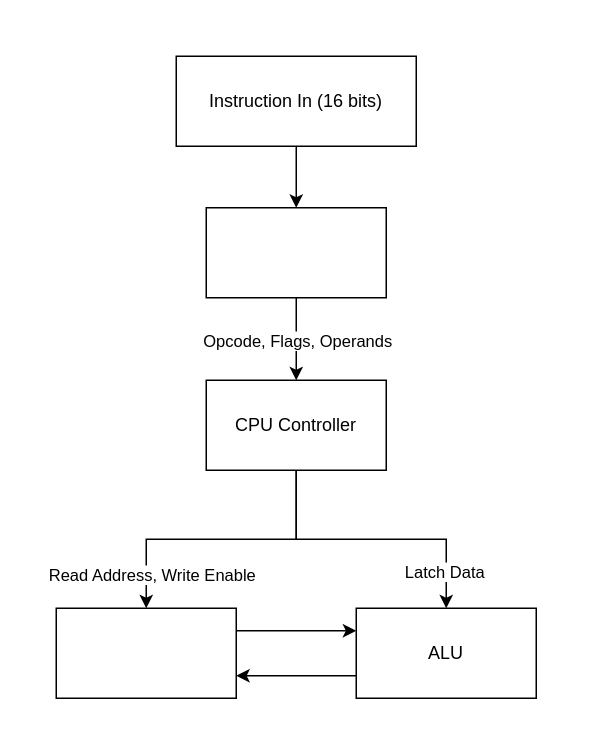
Image size: 591x756. Some labels were removed from this diagram. The centre of each missing label's shape, as x and y in pixels:
"Decoder" goes at [295,252].
"Register File" goes at [145,652].
